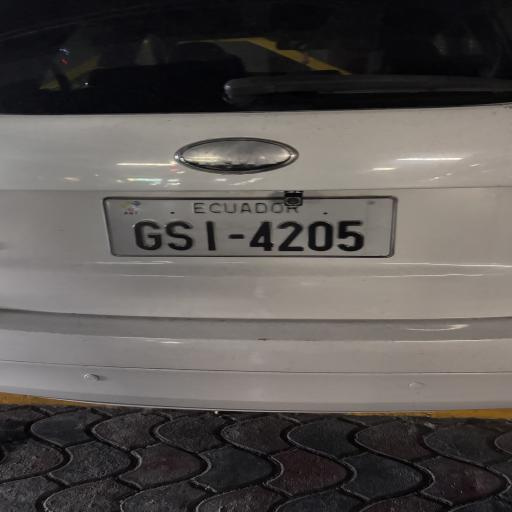license_plate: (105, 197, 395, 257)
